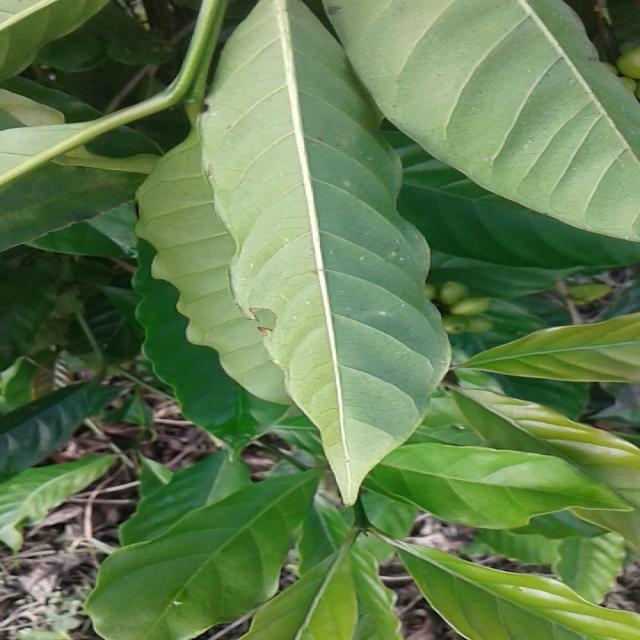Enfermedad-Roya: (198, 0, 451, 508)
